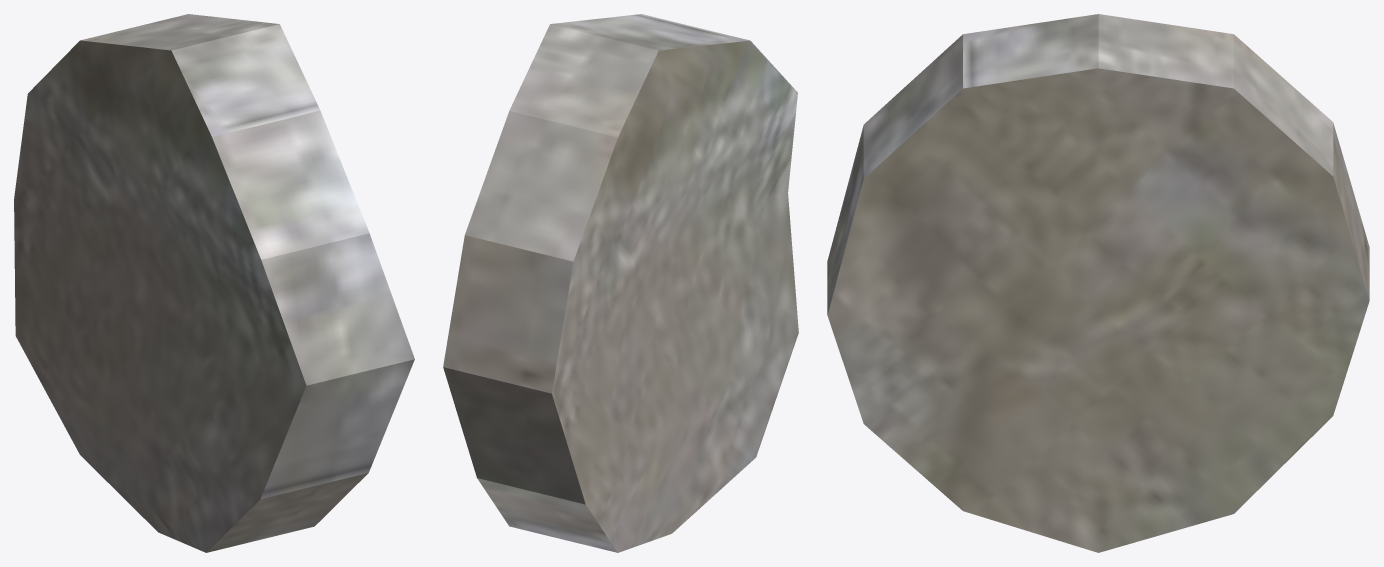
File: Iceman.glb
3 views of the same model, side by side, from view 1: azimuth 30°, elevation 25°; view 2: azimuth 150°, elevation 25°; view 3: azimuth 270°, elevation 25° (orthographic). The views are drawn at different scales.
Parts seen in each view (by area): view 1: Circle; view 2: Circle; view 3: Circle.
Boxes of the visible parts, x1,y1,x2,y2 form: Circle: [14, 14, 414, 552]; Circle: [443, 14, 798, 552]; Circle: [827, 14, 1369, 552].
Size of the model in its own units: 0.6691 by 2 by 2.
1 material, 1 textured.
